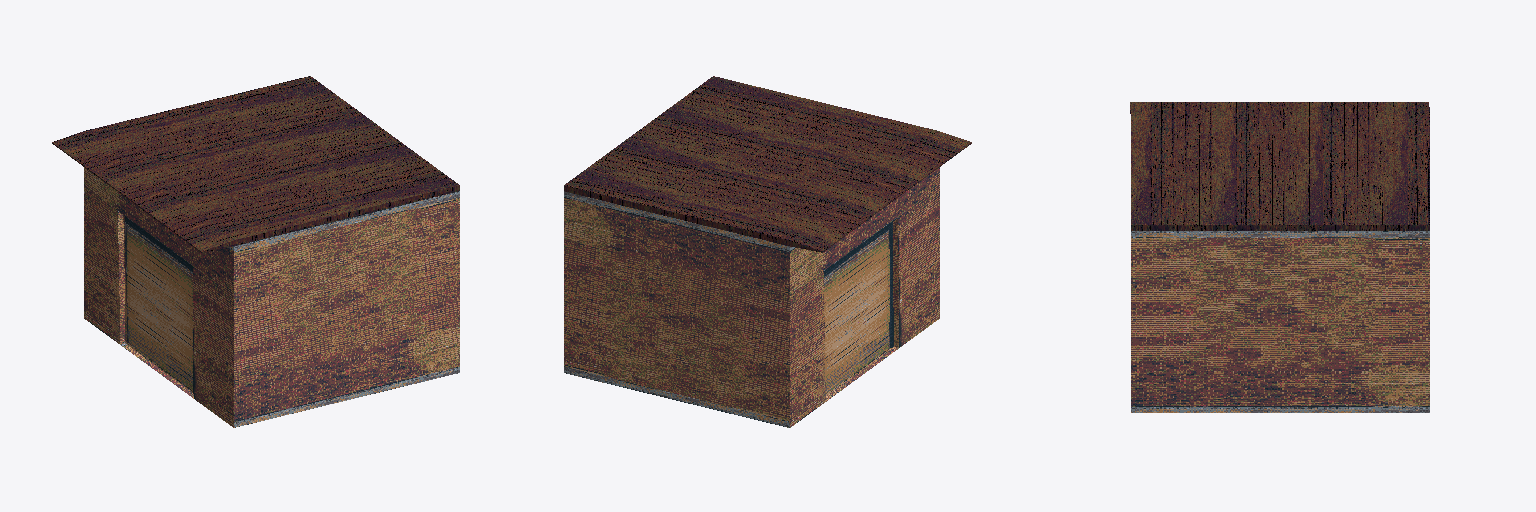
3 views of the same model, side by side, from view 1: azimuth 30°, elevation 25°; view 2: azimuth 150°, elevation 25°; view 3: azimuth 270°, elevation 25° (orthographic).
Parts seen in each view (by area): view 1: pCube15_lambert17_0, pCube15_lambert20_0, pCube15_lambert19_0; view 2: pCube15_lambert17_0, pCube15_lambert20_0, pCube15_lambert19_0; view 3: pCube15_lambert17_0, pCube15_lambert20_0.
Boxes of the visible parts, box(x1,y1,x2,y2) form: pCube15_lambert17_0: box(118, 191, 459, 427); pCube15_lambert20_0: box(52, 76, 459, 252); pCube15_lambert19_0: box(84, 167, 233, 427); pCube15_lambert17_0: box(564, 191, 898, 427); pCube15_lambert20_0: box(564, 76, 971, 252); pCube15_lambert19_0: box(790, 167, 939, 427); pCube15_lambert17_0: box(1131, 231, 1429, 412); pCube15_lambert20_0: box(1130, 102, 1429, 230).
Bounding box in the file's own units: 0.2448 × 0.1696 × 0.2455.
Materials: 3 (3 with a texture image).